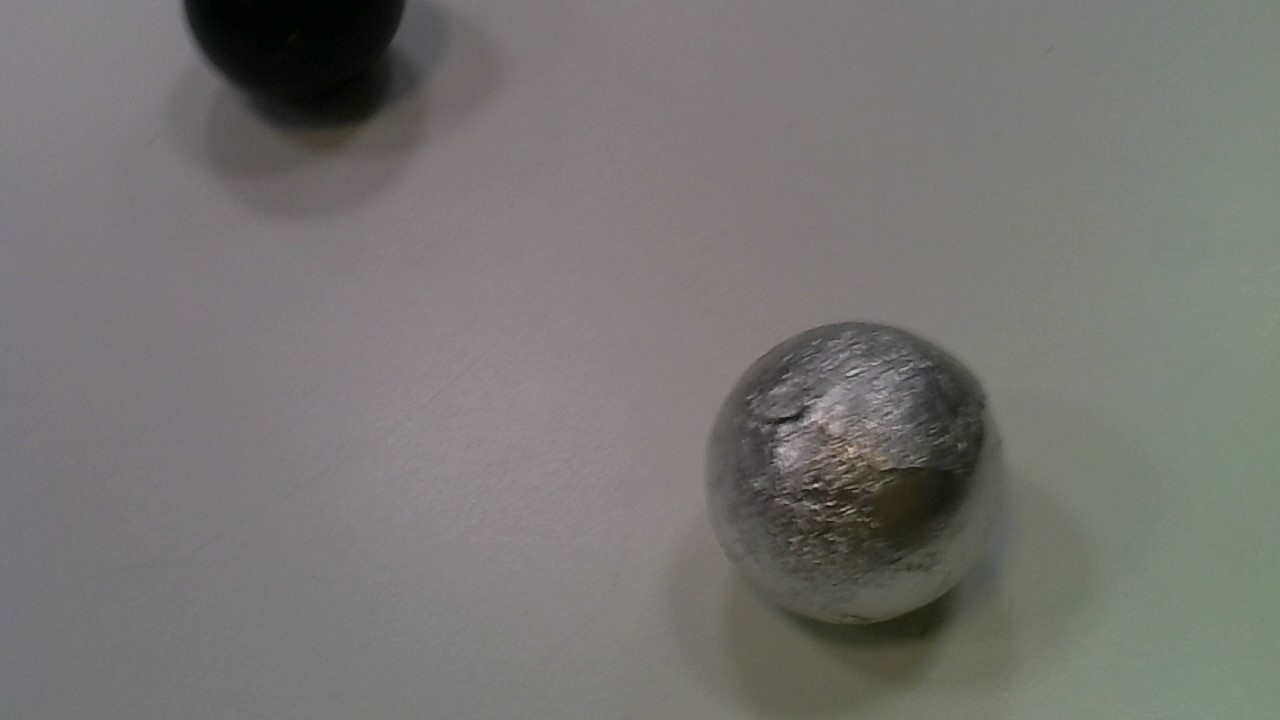silver_ball: (693, 312, 1010, 632)
